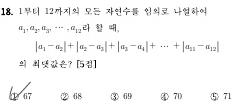choice: (7, 85, 21, 102)
not-choice: (109, 91, 120, 102), (159, 91, 170, 102), (59, 91, 69, 102), (209, 91, 219, 101)
